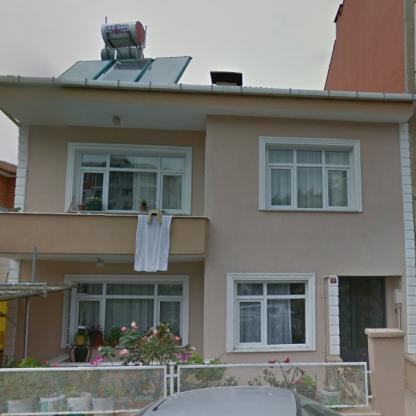door: (339, 277, 385, 360)
window: (76, 154, 188, 211), (74, 284, 183, 342), (269, 148, 351, 208), (236, 281, 305, 342)
